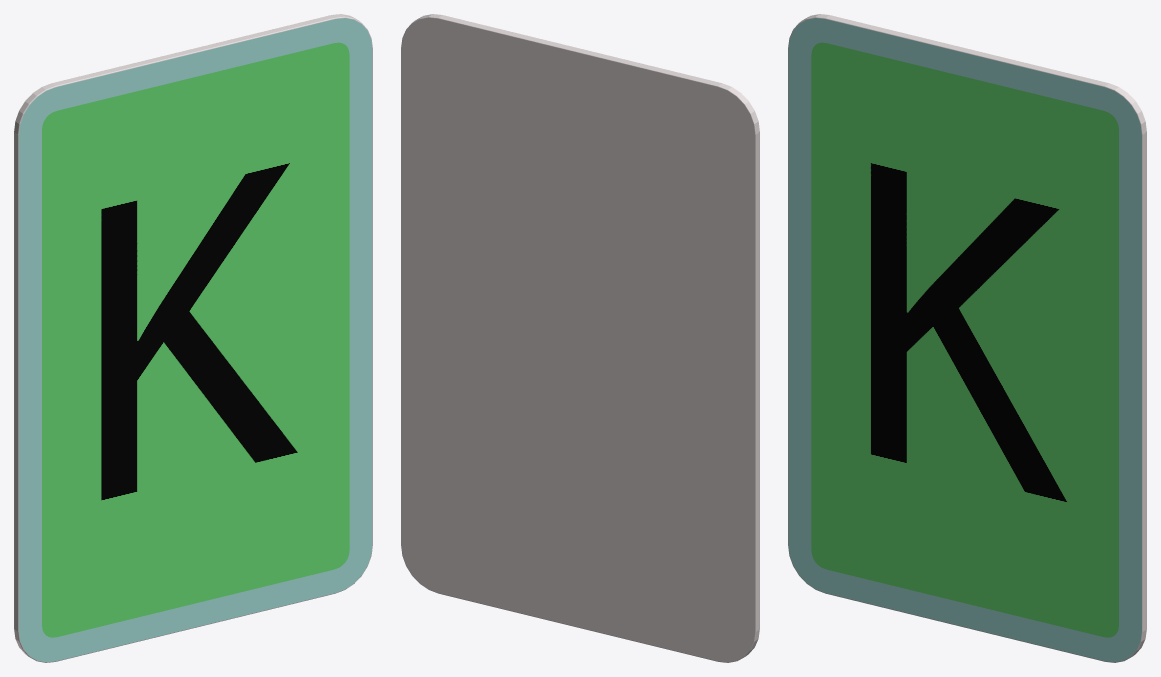
The model's file is Spades_13.fbx.
The picture shows the model from 3 angles, left to right: view 1: azimuth 30°, elevation 25°; view 2: azimuth 150°, elevation 25°; view 3: azimuth 330°, elevation 25°; orthographic projection.
Visible parts, largest first — view 1: vertking; view 2: vertking; view 3: vertking.
Boxes of the visible parts, x1=… form: vertking: x1=14, y1=14, x2=372, y2=662; vertking: x1=401, y1=14, x2=759, y2=662; vertking: x1=788, y1=14, x2=1146, y2=662.
Bounding box in the file's own units: 200 × 310 × 4.34.
3 materials, 1 textured.
